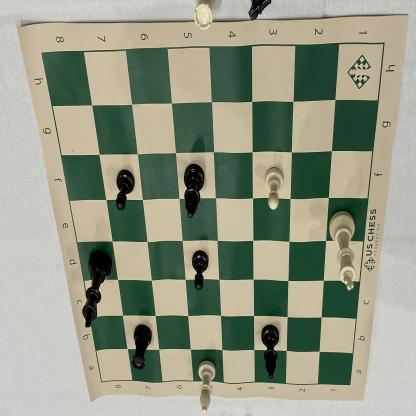black-bishop: (178, 161, 209, 223), (256, 320, 282, 382)
black-king: (81, 244, 114, 334)
black-pawn: (114, 165, 139, 216), (186, 247, 212, 295)
black-rook: (128, 322, 154, 374)
white-bishop: (191, 356, 216, 416)
white-king: (323, 205, 359, 301)
white-pawn: (260, 166, 286, 216)
